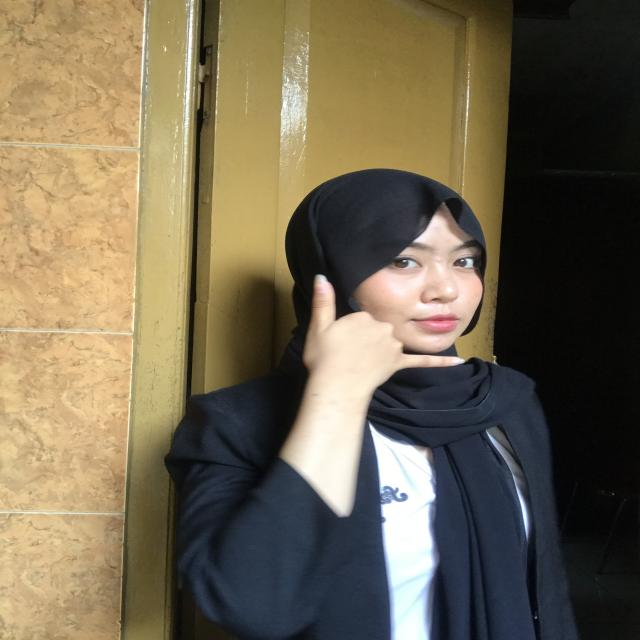telpon: (273, 263, 491, 390)
